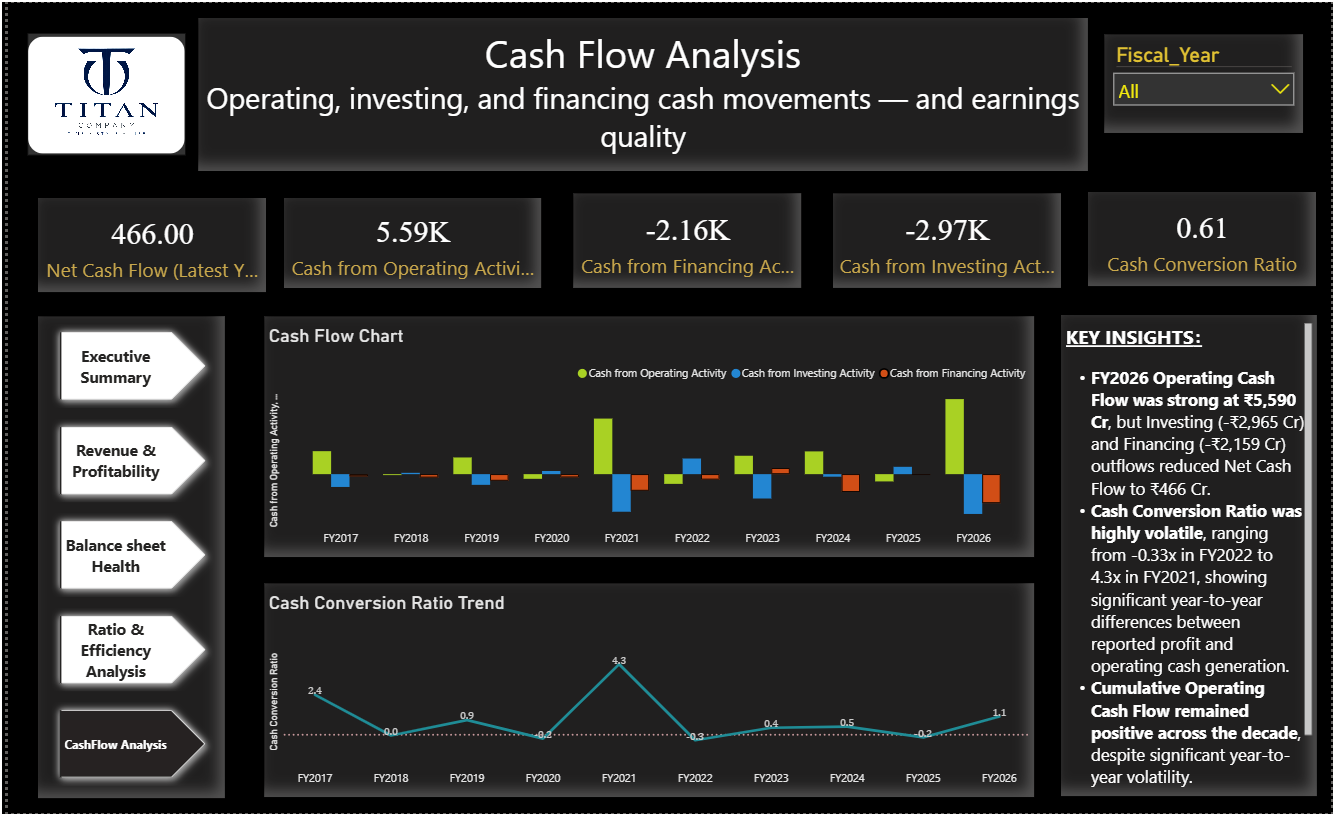

The dashboard page shown, as its layout file describes it:
{"tool":"powerbi","page":{"name":"CashFlow Analysis","canvas":[1470,900],"ordinal":4},"visuals":[{"type":"textbox","box":[212,16,988,170],"z":0},{"type":"card","fields":{"Values":["_Measures-1.Net Cash Flow (Latest Year)"]},"box":[32.6,216.3,253.5,104.7],"z":1000},{"type":"card","fields":{"Values":["_Latest_Year_Measures.Cash from Operating Activity (Latest Year)"]},"box":[307,216.3,286.1,100],"z":2000},{"type":"card","fields":{"Values":["_Latest_Year_Measures.Cash from Financing Activity (Latest Year)"]},"box":[628,211.7,253.5,104.7],"z":3000},{"type":"card","fields":{"Values":["_Latest_Year_Measures.Cash from Investing Activity (Latest Year)"]},"box":[916.4,211.7,253.5,104.7],"z":4000},{"type":"card","fields":{"Values":["_Measures-5.Cash Conversion Ratio"]},"box":[1200.2,209.3,253.5,104.7],"z":5000},{"type":"textbox","box":[32.5,347.5,207.5,535],"z":6000,"group":"g1"},{"type":"clusteredColumnChart","title":"Cash Flow Chart","fields":{"Category":["Dim_Fiscal_year.Fiscal_Year"],"Y":["_Measures-5.Cash from Operating Activity","_Measures-5.Cash from Investing Activity","_Measures-5.Cash from Financing Activity"]},"box":[285,347.5,855,267.5],"z":6000},{"type":"lineChart","title":"Cash Conversion Ratio Trend","fields":{"Category":["Dim_Fiscal_year.Fiscal_Year"],"Y":["_Measures-5.Cash Conversion Ratio"]},"box":[285,645,855,237.5],"z":7000},{"type":"textbox","box":[1169.2,347.1,283.8,535],"z":8000},{"type":"slicer","fields":{"Values":["Dim_Fiscal_year.Fiscal_Year"]},"box":[1218.8,34.9,221,109.3],"z":9000},{"type":"pageNavigator","box":[47.5,355,180,517.5],"z":9002,"group":"g1"},{"type":"group","id":"g1","title":"Group 1","box":[32.5,347.5,207.5,535],"z":10000},{"type":"image","box":[22,34,176,136],"z":10001}]}

Visuals, with their boxes in screenshot pixels (x1, y1, x2, y2), scaled from the page's 1470x900 canvas onto the 1335x816 screenshot:
textbox: box=[193, 15, 1090, 169]
card - _Measures-1.Net Cash Flow (Latest Year): box=[30, 196, 260, 291]
card - _Latest_Year_Measures.Cash from Operating Activity (Latest Year): box=[279, 196, 539, 287]
card - _Latest_Year_Measures.Cash from Financing Activity (Latest Year): box=[570, 192, 801, 287]
card - _Latest_Year_Measures.Cash from Investing Activity (Latest Year): box=[832, 192, 1062, 287]
card - _Measures-5.Cash Conversion Ratio: box=[1090, 190, 1320, 285]
textbox: box=[30, 315, 218, 800]
"Cash Flow Chart" clusteredColumnChart: box=[259, 315, 1035, 558]
"Cash Conversion Ratio Trend" lineChart: box=[259, 585, 1035, 800]
textbox: box=[1062, 315, 1320, 800]
slicer - Dim_Fiscal_year.Fiscal_Year: box=[1107, 32, 1308, 131]
pageNavigator: box=[43, 322, 207, 791]
"Group 1" group: box=[30, 315, 218, 800]
image: box=[20, 31, 180, 154]
